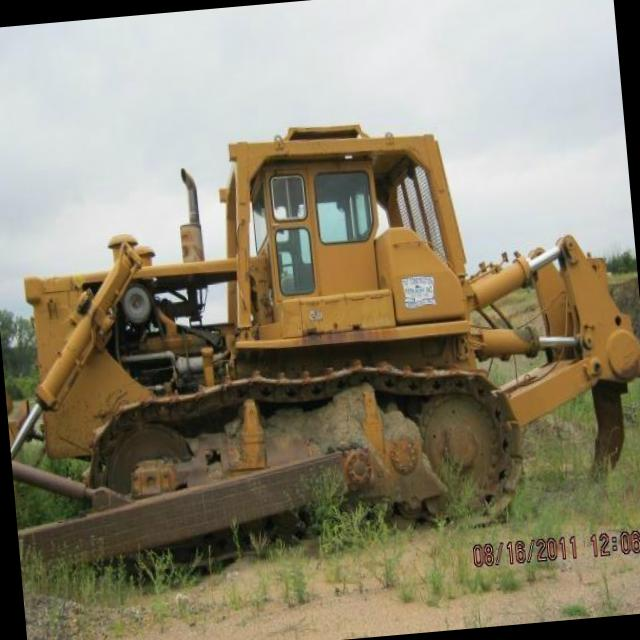Bulldozer: (0, 35, 640, 588)
